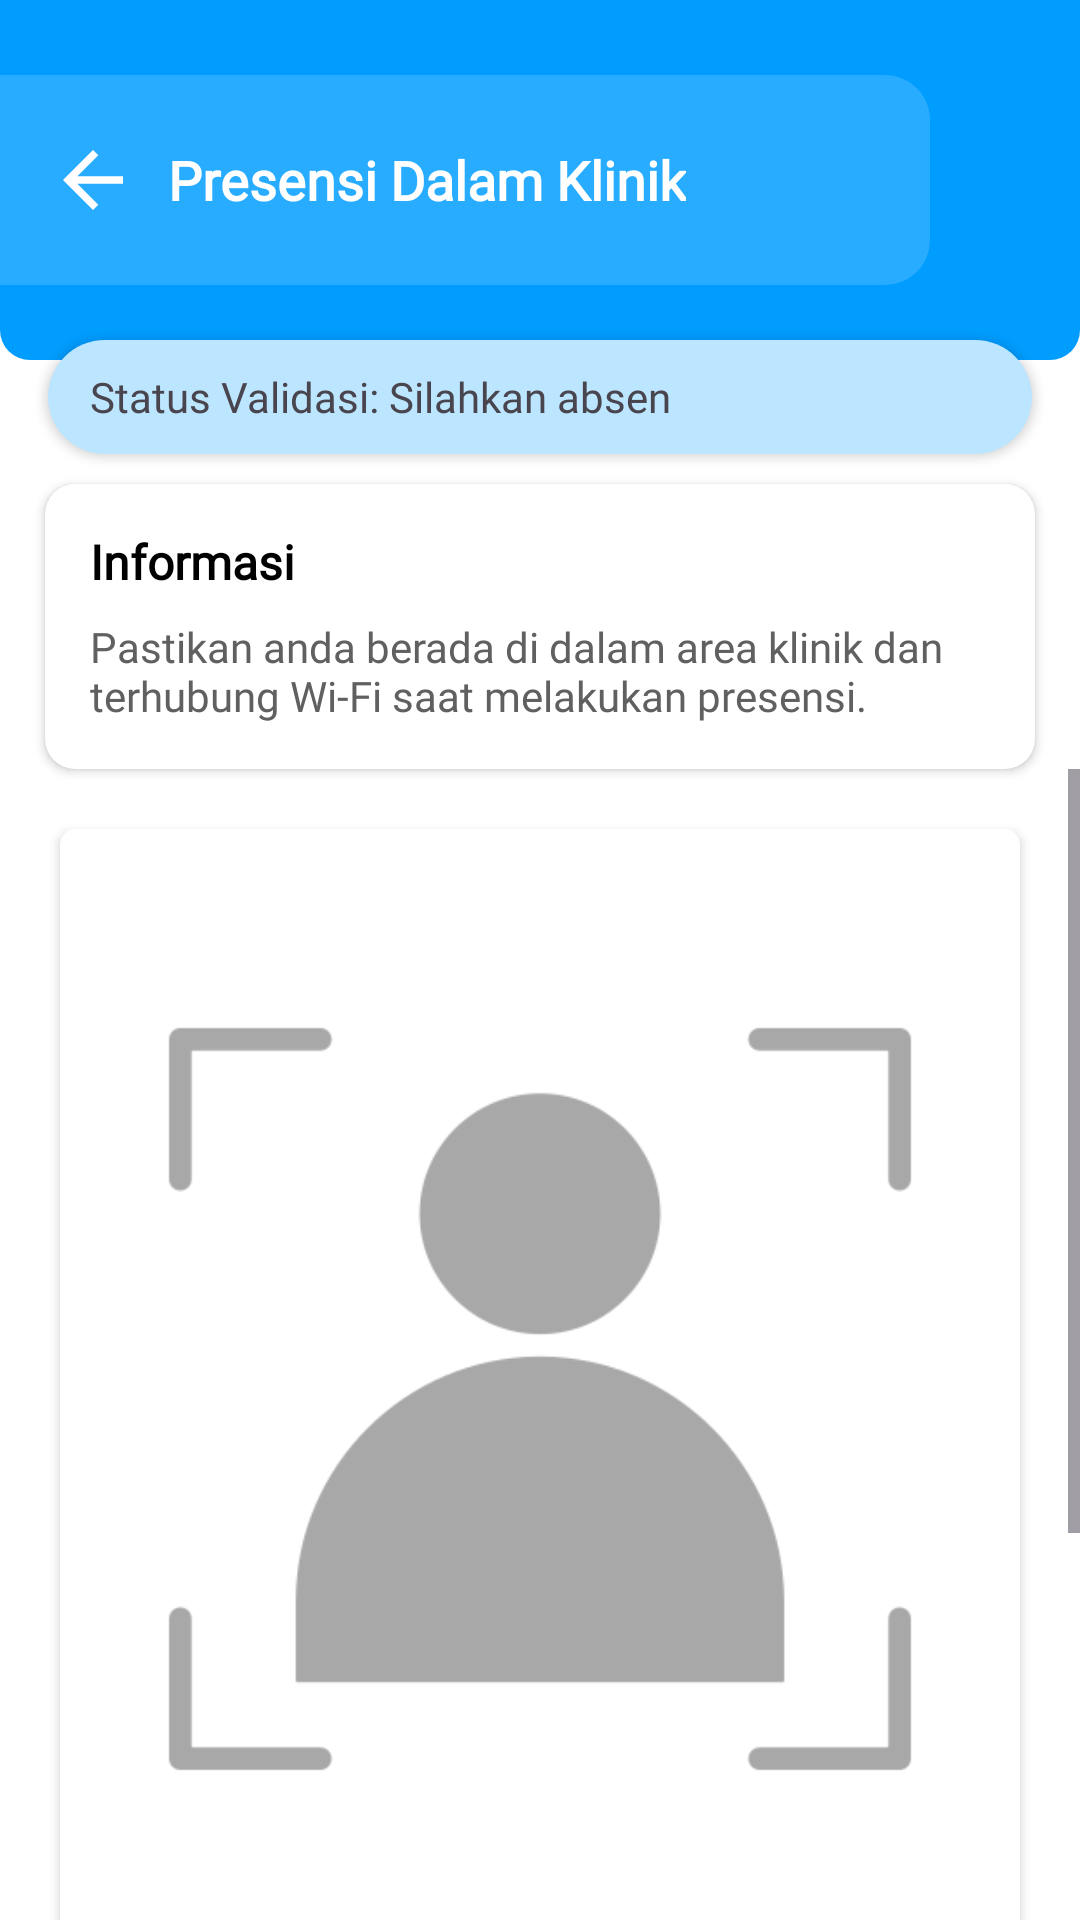

Locate icon controls on the screen. Image size 1080w x 1920h, boxes as (x1, y1, x2, y2).
Back: (63, 150, 123, 210)
